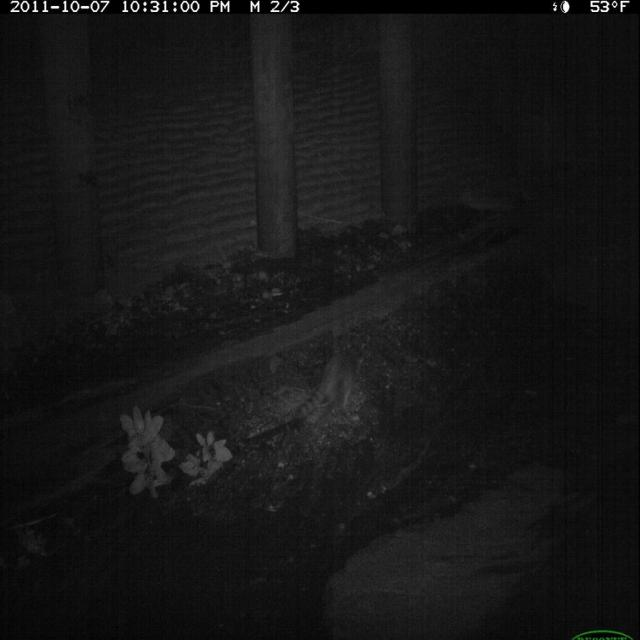raccoon: (290, 335, 371, 429)
